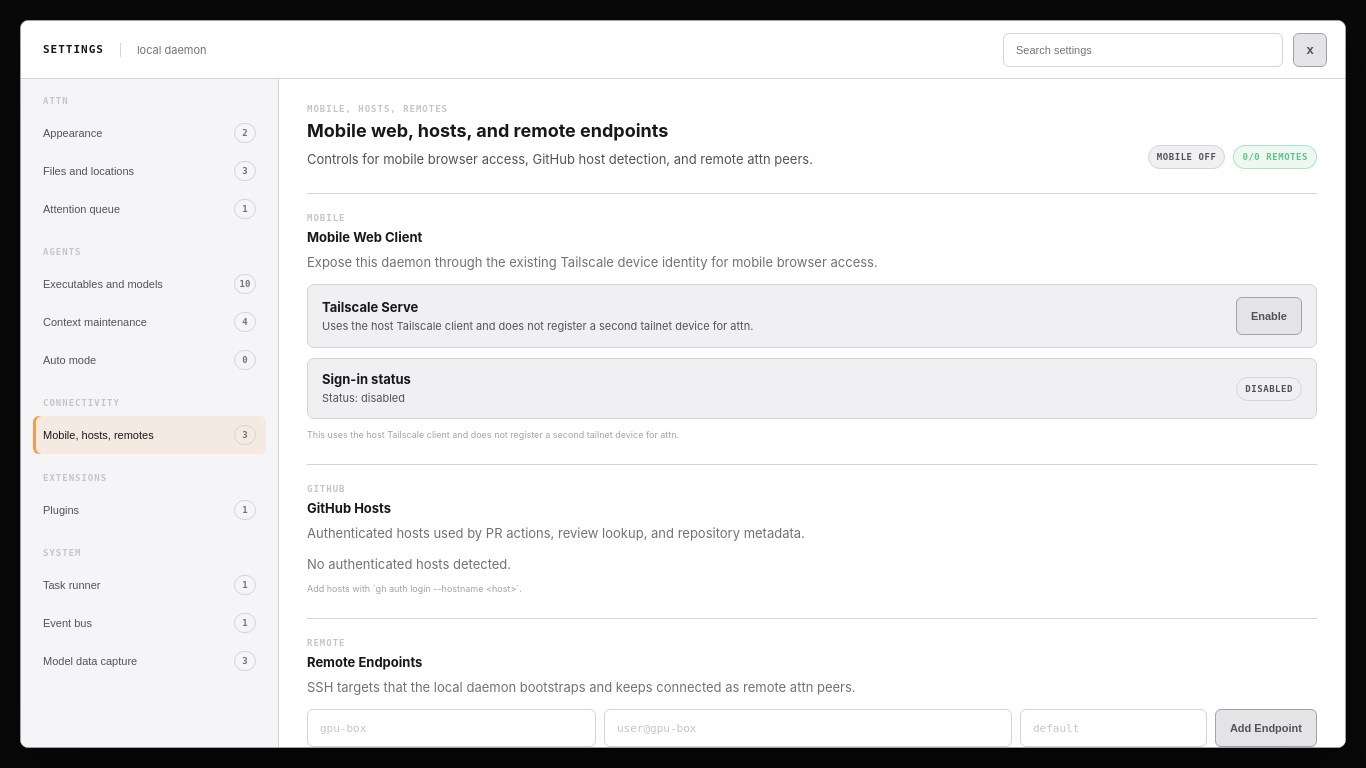
it: SettingsModal › does not carry an agent-queue toggle
Step 1. Click the button with test id "settings-nav-workspace" → (150, 171), box [33,152,266,190]
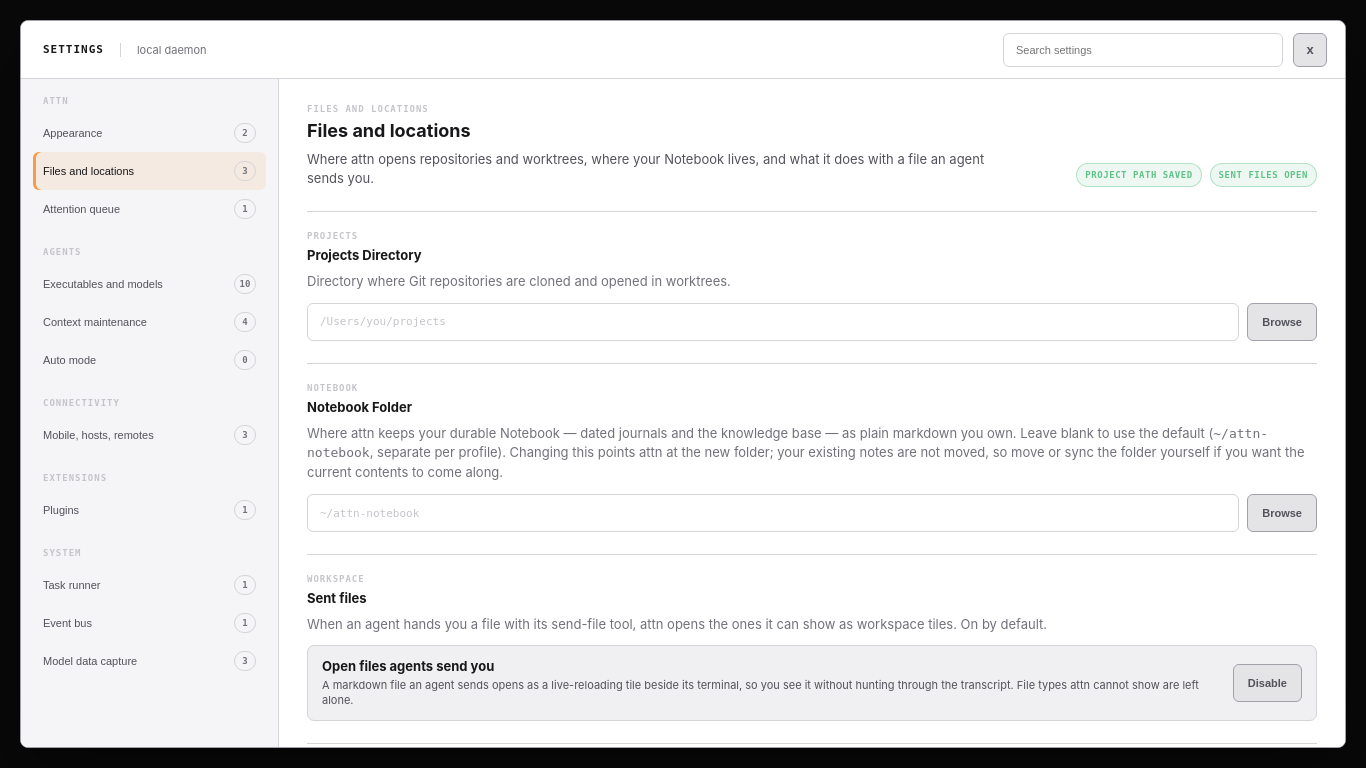
Expected: the field with test id "settings-projects-directory-input" is shown, [307,303,1239,341]
